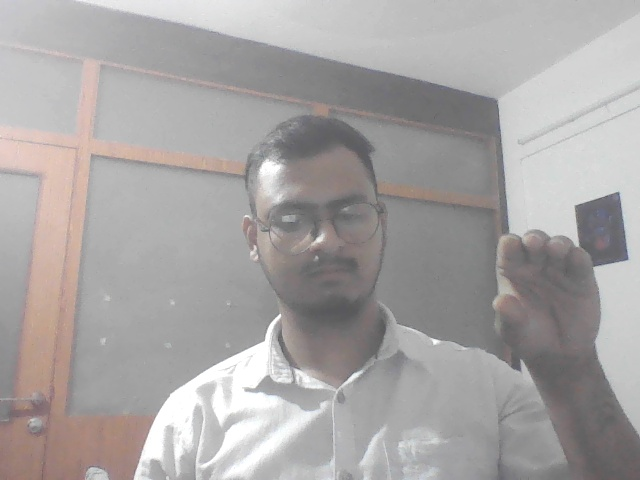NO: (463, 225, 630, 376)
